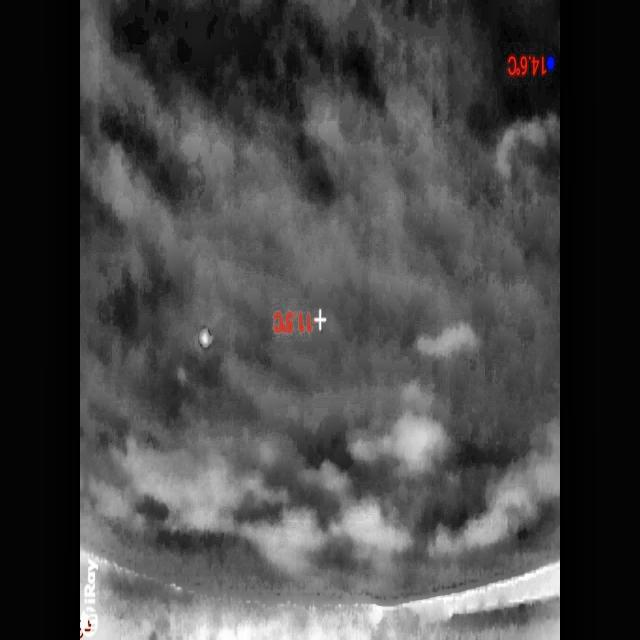drone: (199, 323, 213, 351)
